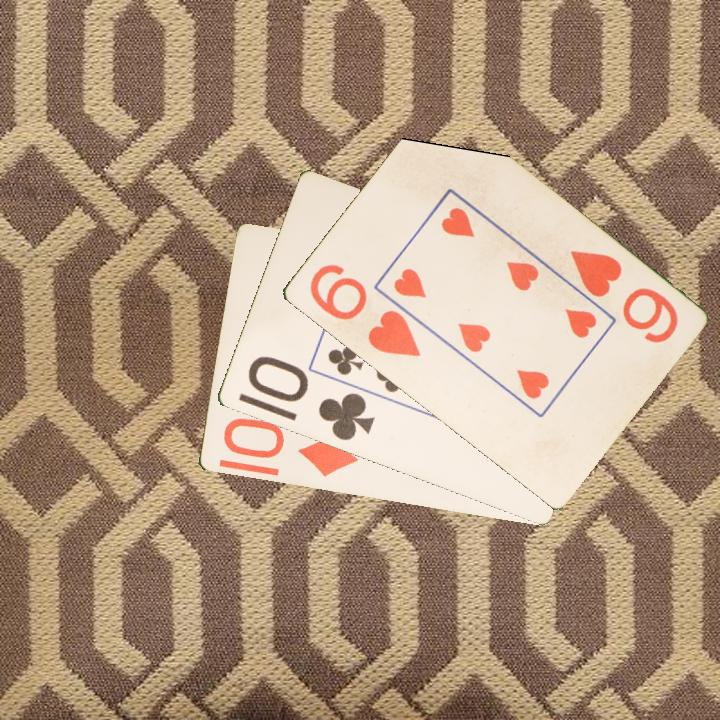10c: (243, 353, 377, 444)
10d: (219, 414, 361, 481)
6h: (305, 260, 424, 360), (566, 246, 681, 347)
